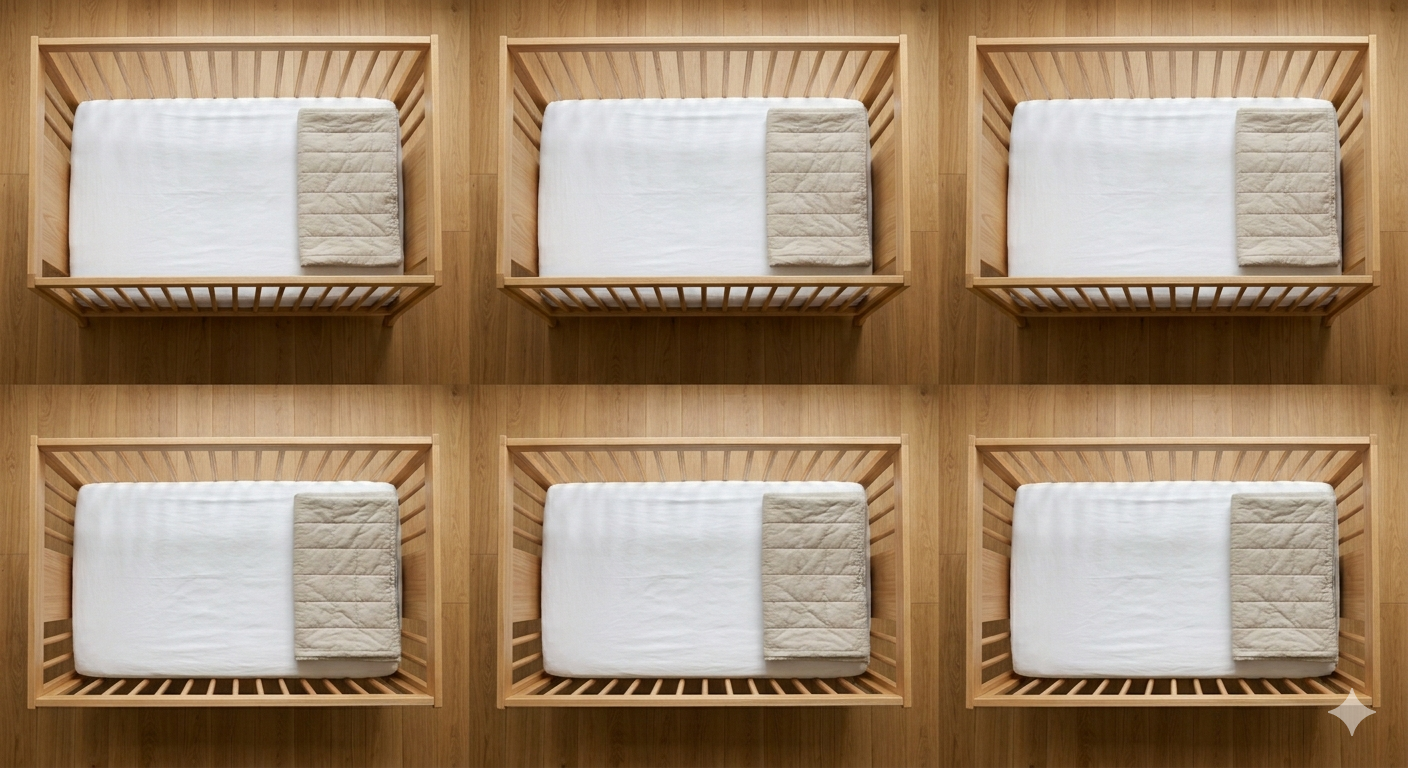crib: (28, 36, 441, 324), (498, 36, 910, 323), (967, 36, 1379, 322), (965, 436, 1380, 707), (27, 436, 441, 707), (497, 436, 909, 706)
